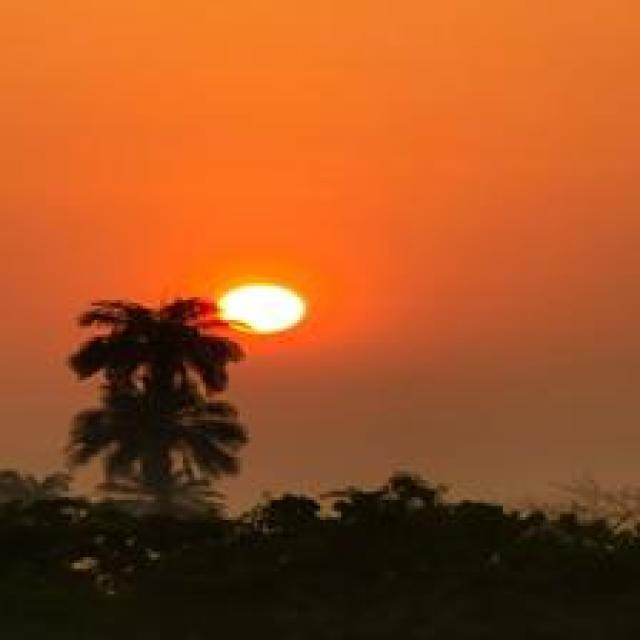sun: (219, 284, 306, 334)
